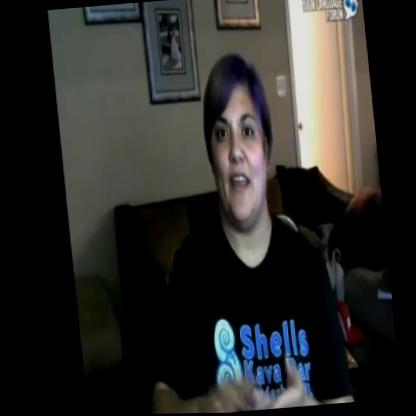NiceToMeetYou: (186, 340, 308, 414)
